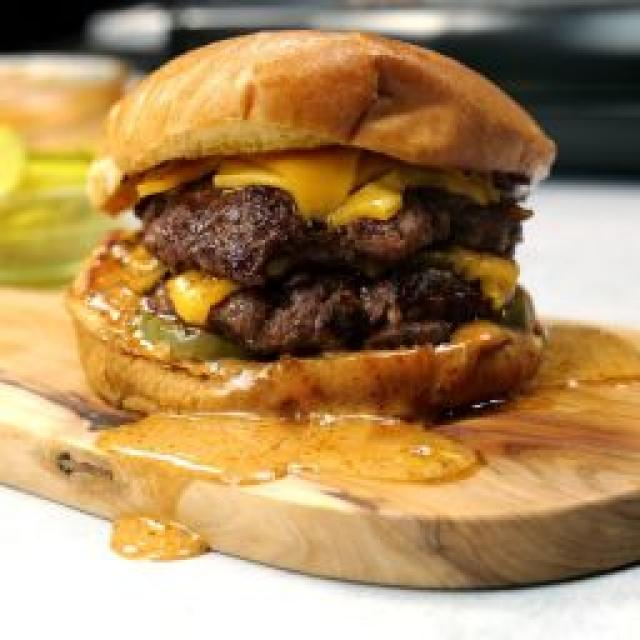burger: (62, 30, 552, 430)
